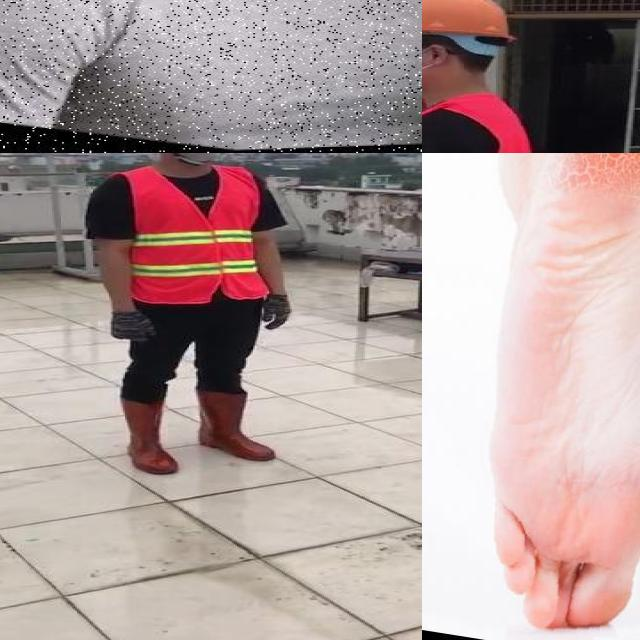Barefoots: (486, 153, 640, 616)
boots: (192, 388, 274, 464), (112, 390, 181, 476)
face_mask: (422, 39, 441, 91), (168, 153, 234, 165)
hand_glove: (102, 310, 159, 342), (269, 295, 296, 336)
head_helmet: (422, 0, 516, 44)
person: (81, 153, 298, 476), (422, 0, 548, 153)
vest: (112, 168, 270, 303)
